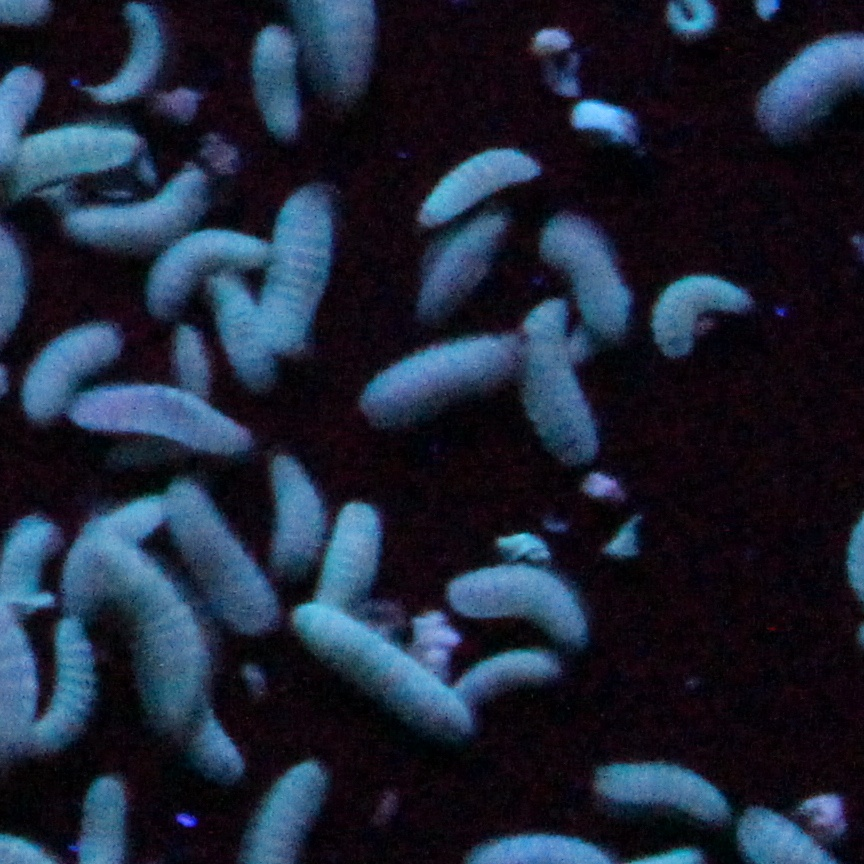larve: (304, 613, 480, 730), (109, 552, 209, 718), (368, 337, 507, 410), (65, 505, 165, 605), (187, 496, 270, 615), (458, 569, 599, 637), (275, 191, 338, 325), (541, 313, 599, 454), (602, 754, 733, 813), (414, 152, 512, 230), (92, 391, 251, 439), (77, 193, 209, 247), (426, 222, 499, 313), (560, 215, 624, 318), (326, 503, 385, 613), (668, 271, 751, 349), (253, 30, 316, 132), (270, 464, 321, 586), (165, 244, 251, 310), (26, 330, 97, 405), (33, 132, 151, 176), (224, 288, 277, 381), (99, 18, 153, 96), (11, 518, 55, 613), (470, 649, 553, 696), (51, 618, 80, 744), (175, 332, 224, 405), (202, 710, 243, 788)
